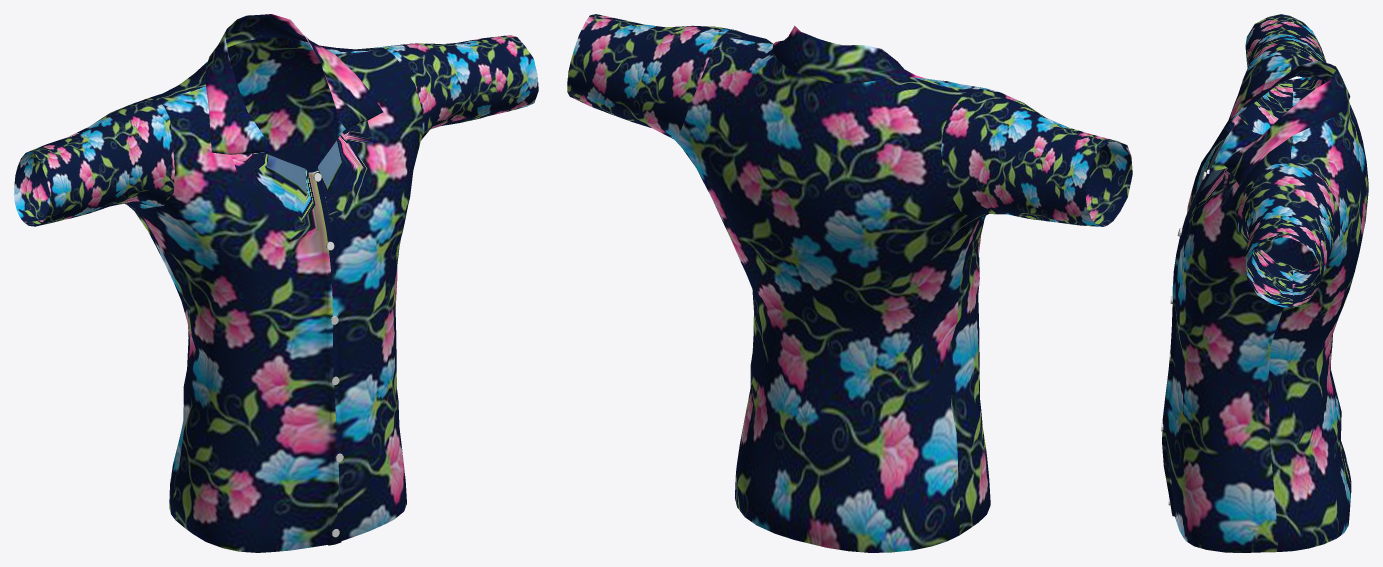
The model's file is Shirt.fbx.
3 renders of one model, left to right at view 1: azimuth 30°, elevation 25°; view 2: azimuth 150°, elevation 25°; view 3: azimuth 270°, elevation 25°, orthographic. The views are drawn at different scales.
Visible parts, largest first — view 1: Shirt; view 2: Shirt; view 3: Shirt.
Part boxes in pixels (x1,y1,x2,y2): Shirt: [14, 14, 538, 552]; Shirt: [567, 14, 1132, 552]; Shirt: [1161, 14, 1368, 552].
Bounding box in the file's own units: 52.52 × 47.53 × 20.17.
Materials: 2 (1 with a texture image).
